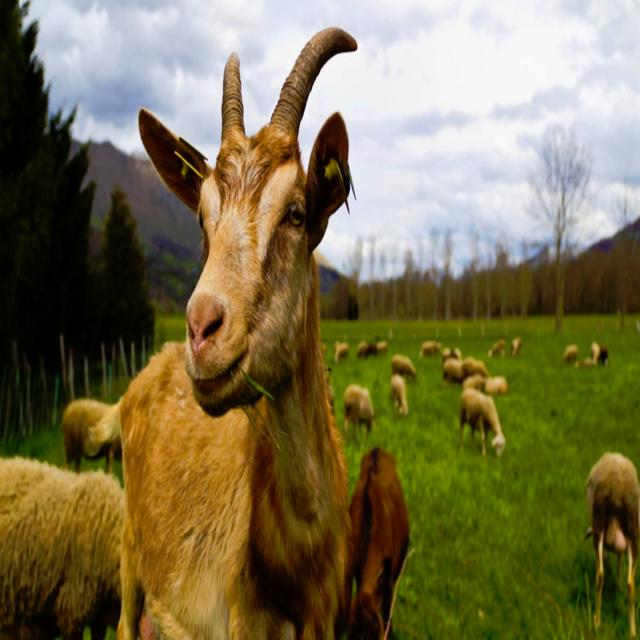goat: (118, 28, 357, 640)
